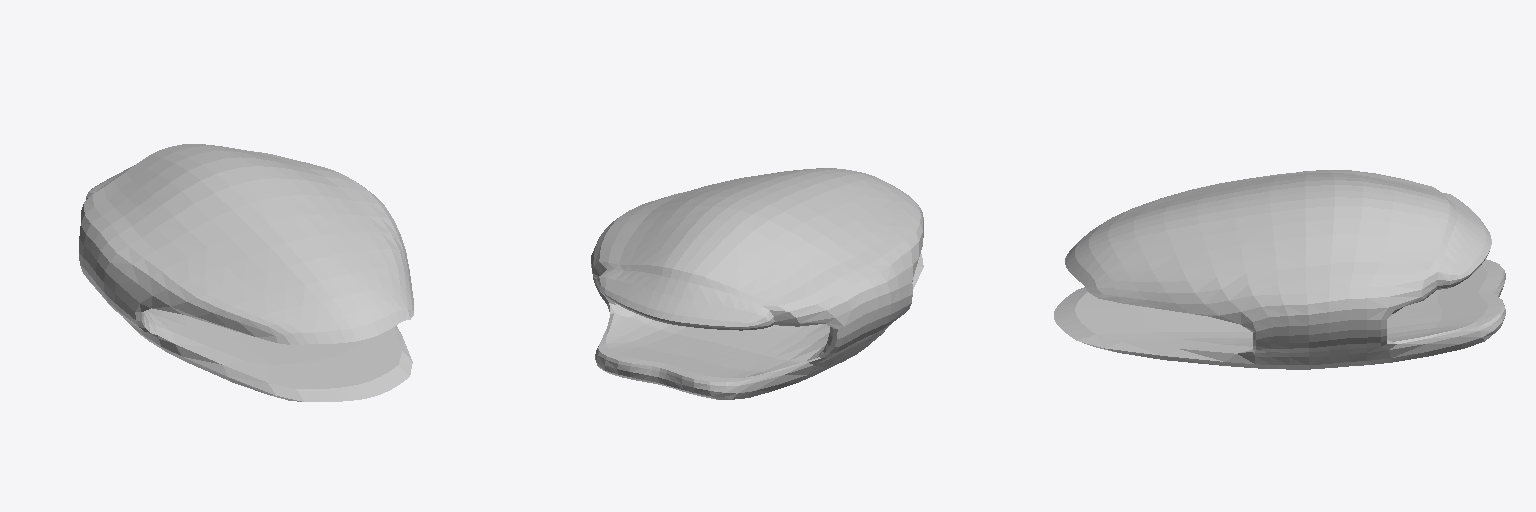
Rendered from Asset_TurtleShell.obj.
The picture shows the model from 3 angles: view 1: azimuth 30°, elevation 25°; view 2: azimuth 150°, elevation 25°; view 3: azimuth 270°, elevation 25°; orthographic projection.
Visible parts, largest first — view 1: polySurface88 pCube567; view 2: polySurface88 pCube567; view 3: polySurface88 pCube567.
Boxes of the visible parts, box(x1,y1,x2,y2) form: polySurface88 pCube567: box(79, 144, 413, 401); polySurface88 pCube567: box(591, 168, 923, 399); polySurface88 pCube567: box(1054, 170, 1505, 369).
Size of the model in its own units: 343 by 156 by 487.